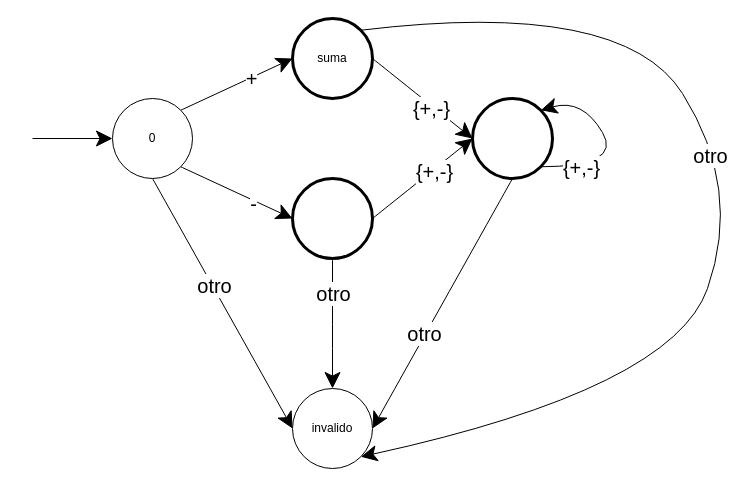
Some shapes in this 745 by 486 pixel diagram are drawn without their labels. Each missing label, with the centre of its shape:
"número entero" goes at point 512,138.
"resta" goes at point 332,218.
